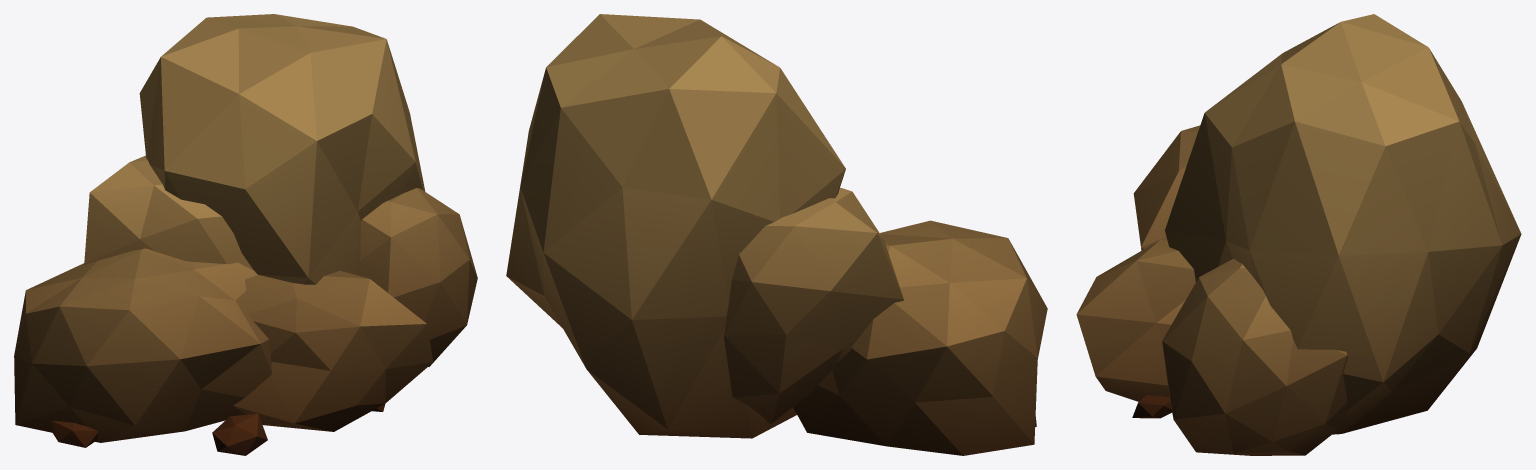
The model's file is big-sand-rock.glb.
The picture shows the model from 3 angles, left to right: view 1: azimuth 30°, elevation 25°; view 2: azimuth 150°, elevation 25°; view 3: azimuth 270°, elevation 25°; orthographic projection. The views are drawn at different scales.
Parts seen in each view (by area): view 1: big-sand-rock; view 2: big-sand-rock; view 3: big-sand-rock.
Part boxes in pixels (left/top/right/bottom): big-sand-rock: left=14, top=14, right=477, bottom=455; big-sand-rock: left=506, top=14, right=1047, bottom=455; big-sand-rock: left=1076, top=14, right=1521, bottom=455.
Size of the model in its own units: 2.26 by 1.63 by 1.77.
